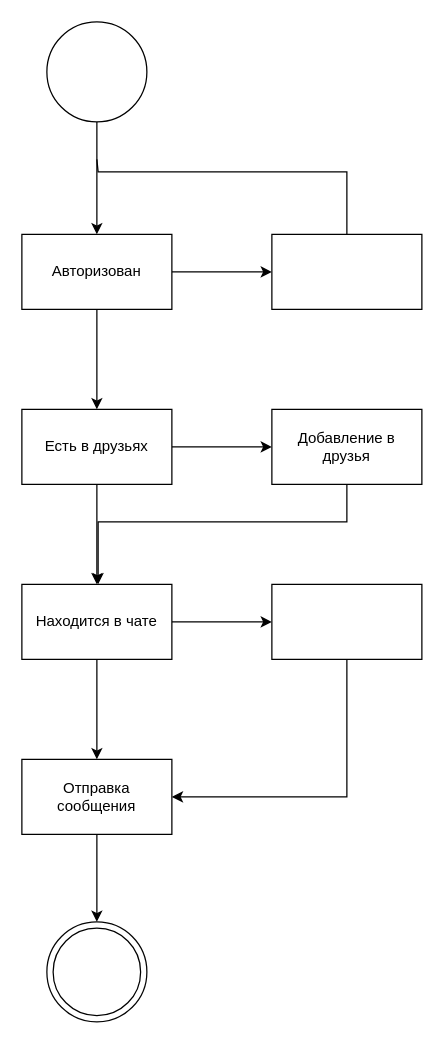
This 444x1044 diagram has some shape labels left out. The shapes that lost their labels are listed below. From the top down, each one's centre as x and y in pixels, then its label:
At (346,271): "Вывод ошибки об авториации".
At (346,621): "Добавление в чат".
